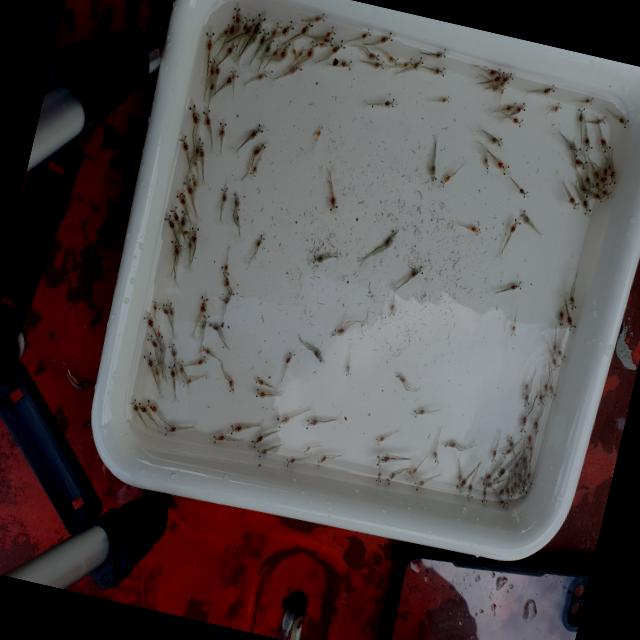babyshrimp: (381, 224, 399, 251), (255, 441, 275, 460), (252, 10, 265, 39), (273, 410, 292, 429), (248, 120, 264, 142), (309, 247, 328, 265), (162, 420, 178, 441), (277, 39, 290, 64), (330, 36, 346, 55), (331, 319, 346, 339), (407, 262, 424, 279), (375, 446, 389, 466), (492, 464, 506, 484), (177, 131, 190, 152), (303, 413, 320, 429), (412, 474, 427, 492), (227, 67, 241, 86), (164, 212, 177, 232), (230, 420, 247, 435), (171, 236, 182, 259), (495, 157, 509, 175), (384, 467, 397, 486), (564, 313, 577, 332), (455, 472, 466, 494), (377, 29, 393, 44), (205, 29, 215, 53), (517, 413, 527, 437), (280, 17, 294, 34), (142, 310, 156, 327), (307, 39, 318, 60), (170, 203, 181, 224), (182, 177, 194, 196), (301, 21, 316, 36), (252, 141, 267, 156), (290, 59, 304, 75), (442, 434, 458, 448), (508, 215, 521, 232), (618, 112, 631, 129), (146, 331, 159, 348), (166, 341, 179, 358), (225, 40, 236, 60), (142, 348, 154, 366), (252, 429, 264, 447), (600, 136, 611, 155), (328, 194, 339, 213), (220, 271, 231, 290), (568, 194, 581, 210), (341, 57, 354, 73), (412, 406, 428, 419), (438, 172, 450, 189), (407, 462, 419, 479), (428, 163, 438, 183), (259, 26, 269, 46), (199, 293, 209, 313), (225, 286, 236, 304), (312, 344, 323, 362), (550, 354, 561, 372), (583, 134, 593, 153), (201, 106, 211, 125), (167, 361, 177, 380), (176, 356, 186, 375), (189, 103, 198, 124), (387, 295, 396, 316), (582, 198, 593, 215), (412, 53, 423, 70), (175, 188, 186, 205), (488, 133, 502, 146), (312, 10, 326, 23), (208, 318, 221, 332), (212, 430, 226, 443), (254, 385, 267, 399), (285, 347, 297, 362), (284, 453, 296, 468), (342, 360, 352, 378), (501, 445, 513, 460), (570, 140, 581, 156), (242, 14, 251, 33), (218, 120, 227, 139), (465, 481, 474, 500), (522, 389, 531, 408), (509, 458, 519, 475), (401, 55, 414, 68), (382, 95, 395, 108), (324, 24, 337, 37), (497, 497, 510, 510), (509, 278, 523, 290), (576, 157, 588, 171), (191, 224, 199, 245), (194, 353, 208, 365), (394, 368, 406, 382), (256, 67, 267, 82), (524, 469, 533, 487), (568, 293, 577, 311), (198, 139, 205, 162), (520, 207, 530, 223), (232, 192, 240, 212), (129, 397, 139, 413), (316, 451, 326, 467), (593, 191, 605, 204), (594, 112, 606, 125), (505, 98, 517, 111), (433, 64, 445, 77), (387, 53, 399, 66), (470, 222, 482, 235), (146, 397, 158, 410), (360, 25, 371, 39), (608, 168, 617, 185), (201, 312, 210, 329), (233, 4, 241, 23), (272, 20, 282, 35), (138, 399, 148, 414), (511, 114, 523, 126), (373, 58, 385, 70), (221, 259, 230, 275), (226, 375, 235, 391), (374, 467, 383, 483), (517, 185, 528, 198), (542, 82, 555, 93), (515, 100, 526, 113), (501, 70, 514, 81), (199, 342, 210, 355), (585, 176, 595, 190), (556, 346, 566, 360), (577, 105, 585, 122), (375, 432, 384, 447), (221, 184, 228, 203), (532, 416, 539, 435), (601, 187, 612, 199), (435, 47, 447, 58), (322, 35, 334, 46), (181, 375, 191, 388), (432, 447, 440, 463), (548, 383, 556, 399), (158, 301, 167, 315), (479, 489, 488, 503), (368, 51, 380, 61), (255, 373, 265, 385), (301, 443, 311, 455), (558, 307, 564, 327), (230, 68, 237, 85), (600, 174, 608, 188), (249, 163, 257, 177), (166, 299, 174, 313), (439, 93, 450, 103), (510, 320, 516, 338), (256, 233, 265, 245), (490, 448, 497, 463), (315, 124, 323, 137), (536, 393, 544, 406), (552, 100, 562, 110), (584, 95, 593, 106), (488, 67, 500, 75), (542, 381, 548, 397), (505, 485, 512, 498), (297, 45, 306, 55), (151, 298, 157, 310), (484, 155, 489, 169), (529, 442, 534, 456), (500, 86, 506, 95)
